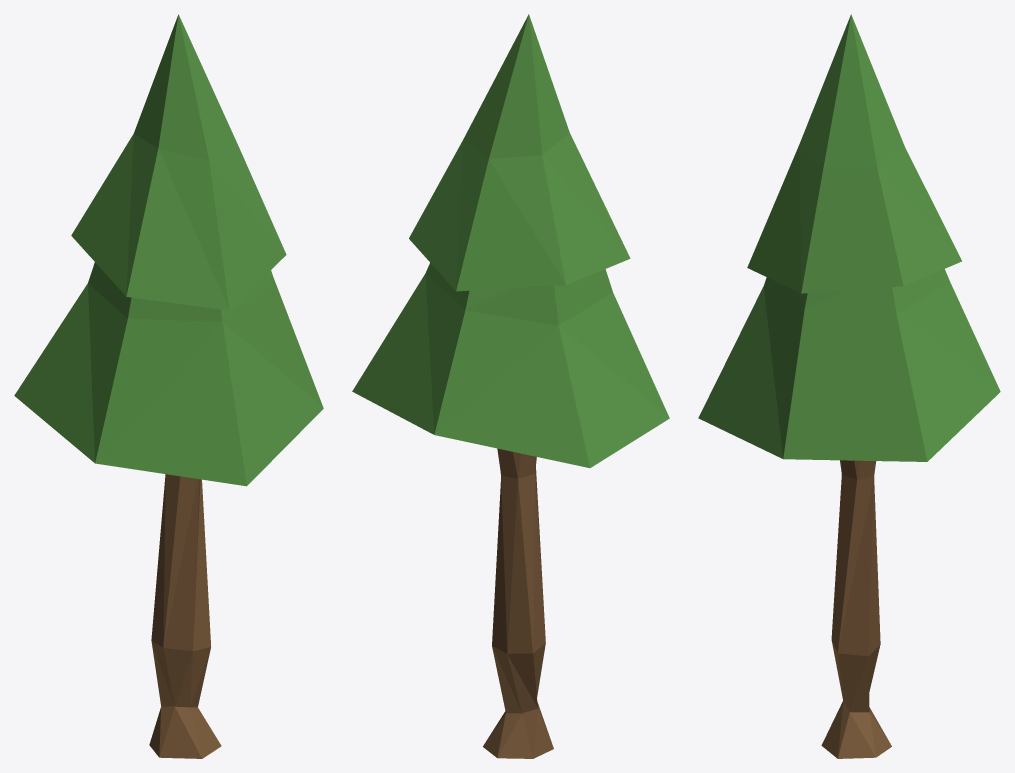
The model's file is tree3d-027.glb.
3 views of the same model, side by side, from view 1: azimuth 30°, elevation 25°; view 2: azimuth 150°, elevation 25°; view 3: azimuth 270°, elevation 25° (orthographic).
Parts seen in each view (by area): view 1: tree3d-027; view 2: tree3d-027; view 3: tree3d-027.
Part boxes in pixels (left/top/right/bottom): tree3d-027: left=14, top=14, right=323, bottom=758; tree3d-027: left=352, top=14, right=669, bottom=758; tree3d-027: left=698, top=14, right=1000, bottom=758.
Size of the model in its own units: 0.3585 by 1 by 0.377.
